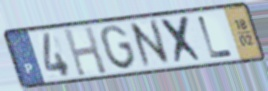4: (42, 30, 72, 80)
G: (98, 23, 138, 71)
H: (61, 25, 110, 78)
L: (196, 15, 236, 61)
N: (126, 17, 174, 71)
X: (158, 14, 207, 67)
